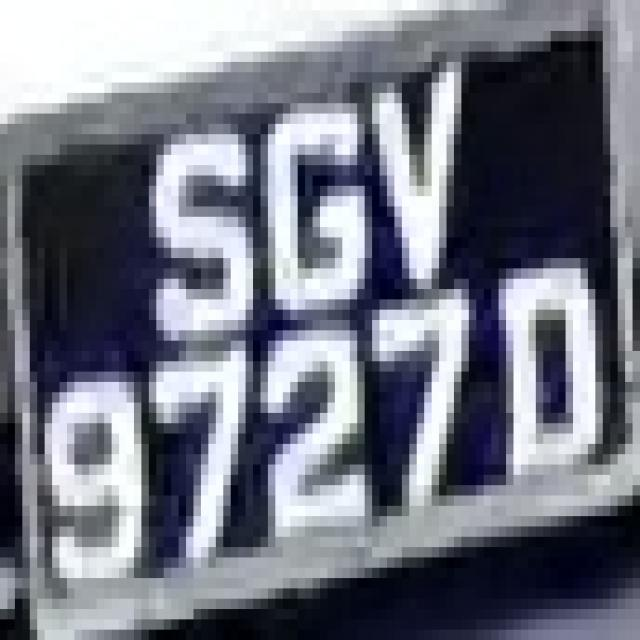2: (245, 330, 402, 578)
7: (335, 278, 484, 536), (142, 320, 260, 557)
9: (45, 330, 171, 578)
D: (484, 258, 610, 506)
G: (246, 93, 380, 310)
S: (134, 83, 260, 351)
V: (357, 21, 491, 268)
